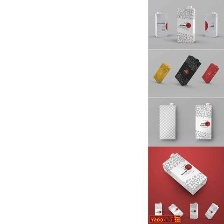carton: (158, 149, 210, 197), (154, 101, 178, 143), (191, 102, 216, 142), (172, 53, 201, 87), (174, 5, 198, 44), (200, 8, 219, 41), (149, 61, 171, 87), (150, 10, 170, 38), (201, 60, 221, 87), (202, 200, 220, 222), (166, 201, 185, 221), (187, 200, 201, 221), (152, 200, 164, 219)
